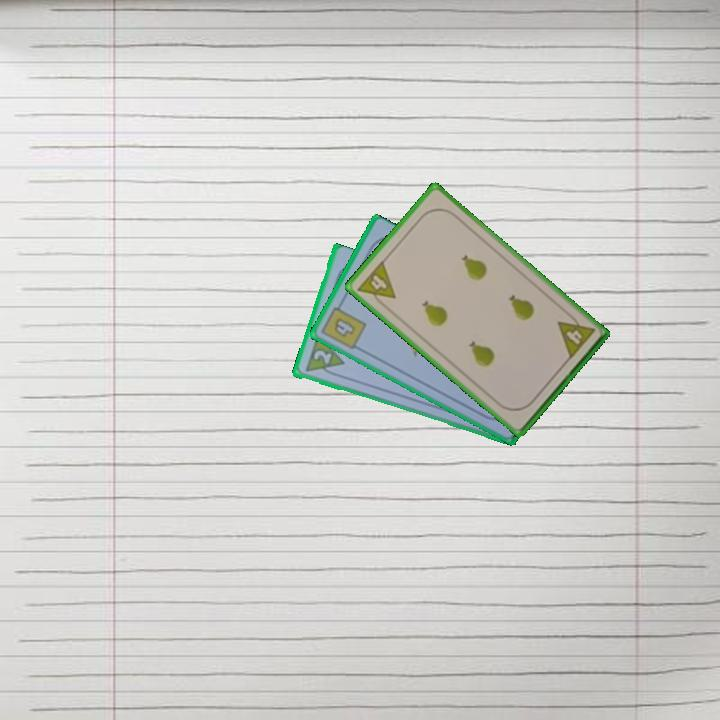2p: (309, 346, 335, 368)
4b: (318, 298, 369, 352)
4p: (354, 257, 399, 311), (554, 309, 597, 362)
